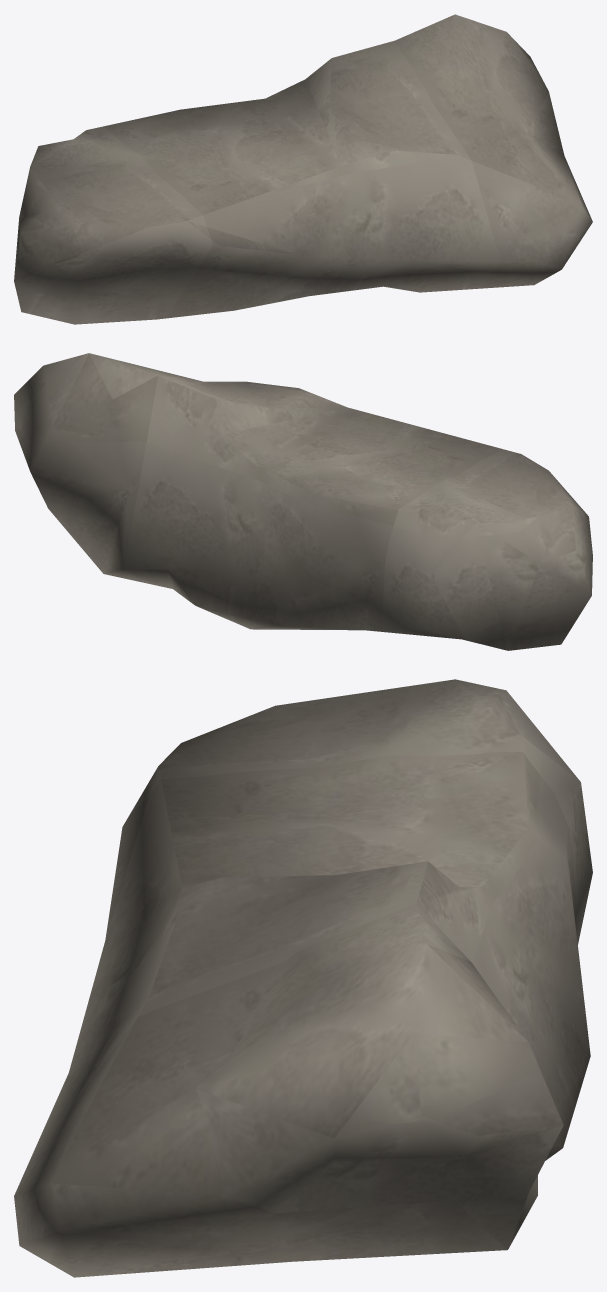
The model's file is moon-rock.glb.
3 renders of one model, top to bottom at view 1: azimuth 30°, elevation 25°; view 2: azimuth 150°, elevation 25°; view 3: azimuth 270°, elevation 25°, orthographic. The views are drawn at different scales.
Visible parts, largest first — view 1: MoonRock; view 2: MoonRock; view 3: MoonRock.
Boxes of the visible parts, x1,y1,x2,y2 form: MoonRock: [14, 14, 592, 324]; MoonRock: [14, 353, 592, 650]; MoonRock: [14, 679, 592, 1277].
Size of the model in its own units: 2.81 by 1.01 by 1.46.
Materials: 1 (1 with a texture image).
